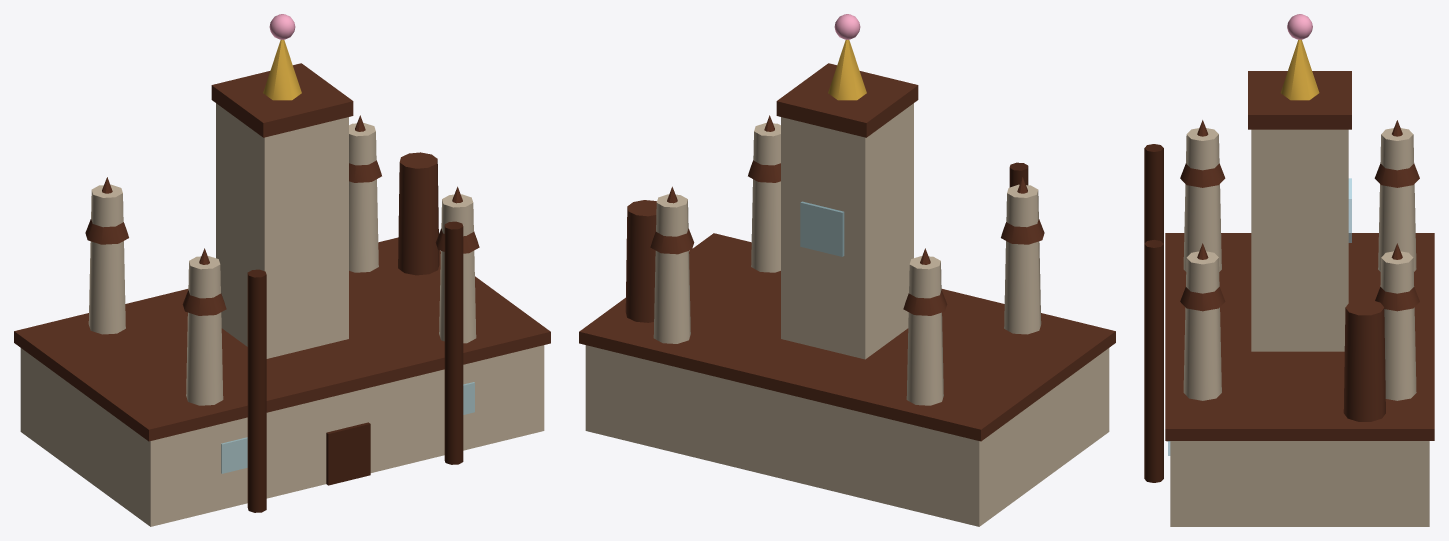
Rendered from chocolate-factory.glb.
3 renders of one model, left to right at view 1: azimuth 30°, elevation 25°; view 2: azimuth 150°, elevation 25°; view 3: azimuth 270°, elevation 25°, orthographic.
Visible parts, largest first — view 1: hall, roof, tower, spireBody (×4), towerCap, pipeA, pipeB, chimney, spireRoof (×3), door, pinnacle, windowFront; view 2: hall, roof, tower, spireBody (×4), towerCap, chimney, spireRoof (×4), towerWindow, pinnacle; view 3: roof, hall, tower, spireBody (×4), towerCap, chimney, pipeB, spireRoof (×4), pipeA, pinnacle, pinnacleBall.
Part boxes in pixels (box(x1,y1,x2,y2)): hall: box(20, 345, 544, 526); roof: box(14, 237, 550, 441); tower: box(216, 103, 348, 358); spireBody (×4): box(88, 123, 476, 405); towerCap: box(211, 63, 353, 137); pipeA: box(247, 269, 266, 512); pipeB: box(444, 221, 463, 464); chimney: box(398, 152, 439, 275); spireRoof (×3): box(85, 115, 381, 315); door: box(326, 422, 370, 485); pinnacle: box(263, 39, 301, 100); windowFront: box(221, 437, 247, 473); hall: box(585, 345, 1109, 526); roof: box(579, 233, 1115, 441); tower: box(781, 103, 913, 359); spireBody (×4): box(653, 123, 1041, 405); towerCap: box(776, 63, 918, 137); chimney: box(625, 200, 656, 322); spireRoof (×4): box(650, 115, 1044, 315); towerWindow: box(800, 201, 844, 256); pinnacle: box(828, 39, 866, 100); roof: box(1165, 233, 1434, 440); hall: box(1170, 441, 1429, 526); tower: box(1251, 129, 1348, 351); spireBody (×4): box(1183, 128, 1416, 400); towerCap: box(1248, 71, 1351, 129); chimney: box(1343, 299, 1385, 421); pipeB: box(1144, 240, 1163, 482); spireRoof (×4): box(1180, 120, 1419, 311); pipeA: box(1144, 144, 1163, 243); pinnacle: box(1280, 39, 1319, 100); pinnacleBall: box(1287, 14, 1312, 39).
Size of the model in its own units: 28.6 by 28.3 by 17.9.
